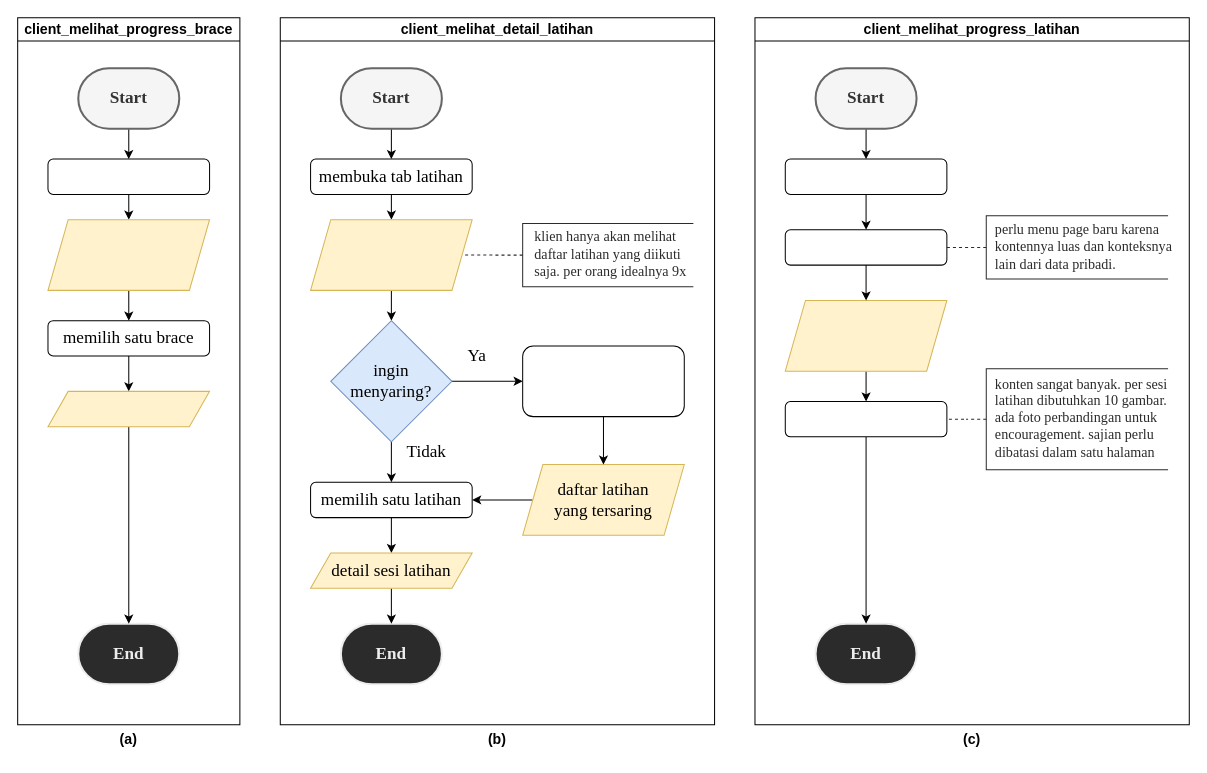
Image size: 1207x773. Some labels were removed from this diagram. Each missing label, with the centre of its shape:
"daftar brace yang dimiliki" goes at (x=128, y=254).
"daftar foto latihan dan perbandingan" goes at (x=865, y=335).
"daftar latihan yang diikuti" goes at (x=391, y=254).
"detail brace" goes at (x=128, y=408).
"memasukan kueri pencarian" goes at (x=603, y=381).
"membuka tab brace" goes at (x=128, y=176).
"membuka tab profil" goes at (x=865, y=176).
"menekan menu galeri" goes at (x=865, y=247).
"menelusuri konten" goes at (x=865, y=418).
